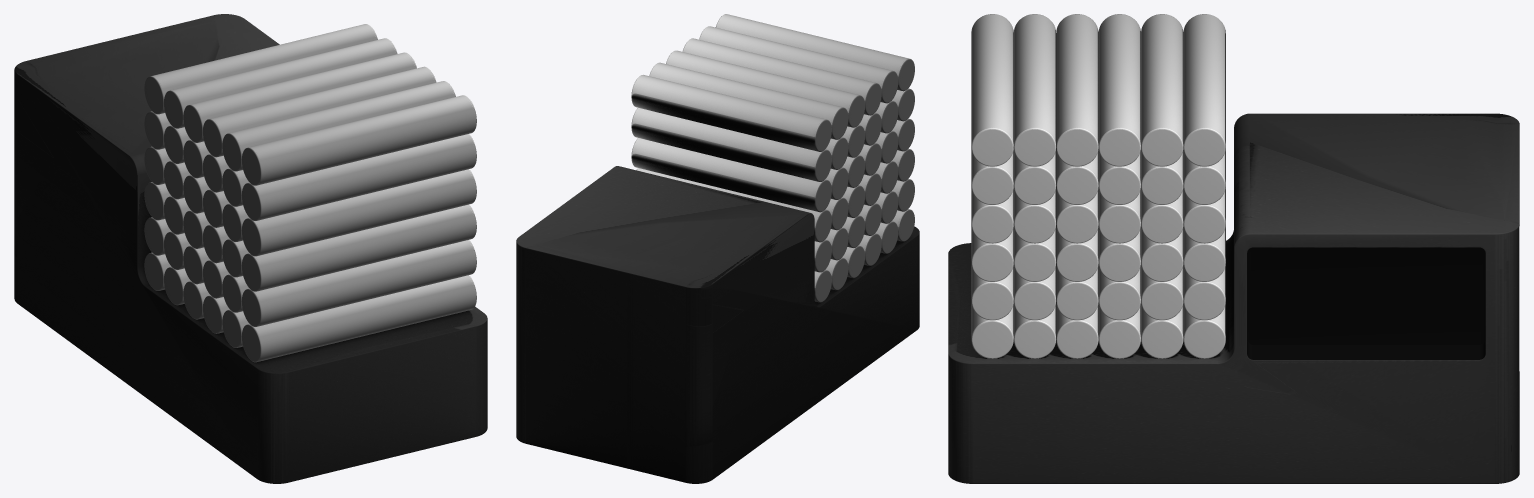
File: prova1.glb
The picture shows the model from 3 angles, left to right: view 1: azimuth 30°, elevation 25°; view 2: azimuth 150°, elevation 25°; view 3: azimuth 270°, elevation 25°; orthographic projection. The views are drawn at different scales.
Visible parts, largest first — view 1: Cube, Cylinder.030, Cylinder.024, Cylinder.006, Cylinder, Cylinder.018, Cylinder.012, Cylinder.034, Cylinder.032, Cylinder.033, Cylinder.035, Cylinder.031 (+25 smaller); view 2: Cube, Cylinder.035, Cylinder.023, Cylinder.029, Cylinder.032, Cylinder.034, Cylinder.031, Cylinder.033, Cylinder.030, Cylinder.017, Cylinder.001, Cylinder.007 (+25 smaller); view 3: Cube, Cylinder.031, Cylinder.030, Cylinder.032, Cylinder.035, Cylinder.033, Cylinder.034, Cylinder.001, Cylinder.007, Cylinder.013, Cylinder.025, Cylinder.019 (+25 smaller).
Part boxes in pixels (<box>): Cube: <box>14,14,487,483</box>; Cylinder.030: <box>242,95,476,185</box>; Cylinder.024: <box>242,134,476,220</box>; Cylinder.006: <box>242,240,476,326</box>; Cylinder: <box>242,275,476,362</box>; Cylinder.018: <box>242,169,476,256</box>; Cylinder.012: <box>242,204,476,291</box>; Cylinder.034: <box>164,38,397,128</box>; Cylinder.032: <box>203,66,436,157</box>; Cylinder.033: <box>183,52,416,142</box>; Cylinder.035: <box>144,24,377,114</box>; Cylinder.031: <box>222,81,455,171</box>; Cube: <box>516,166,919,483</box>; Cylinder.035: <box>631,75,831,151</box>; Cylinder.023: <box>631,138,831,212</box>; Cylinder.029: <box>631,107,831,181</box>; Cylinder.032: <box>682,38,881,115</box>; Cylinder.034: <box>649,62,848,139</box>; Cylinder.031: <box>699,26,898,103</box>; Cylinder.033: <box>666,50,864,127</box>; Cylinder.030: <box>715,14,914,91</box>; Cylinder.017: <box>636,168,831,242</box>; Cylinder.001: <box>875,221,898,253</box>; Cylinder.007: <box>875,191,898,223</box>; Cube: <box>948,113,1519,483</box>; Cylinder.031: <box>1013,14,1056,166</box>; Cylinder.030: <box>971,14,1013,166</box>; Cylinder.032: <box>1056,14,1098,166</box>; Cylinder.035: <box>1183,14,1225,166</box>; Cylinder.033: <box>1098,14,1140,166</box>; Cylinder.034: <box>1141,14,1183,166</box>; Cylinder.001: <box>1013,301,1056,358</box>; Cylinder.007: <box>1013,263,1056,320</box>; Cylinder.013: <box>1013,224,1056,281</box>; Cylinder.025: <box>1013,148,1056,204</box>; Cylinder.019: <box>1013,186,1056,243</box>.
Size of what is drawn, in the model's own units: 2 by 2.71 by 4.
2 materials, 2 textured.
